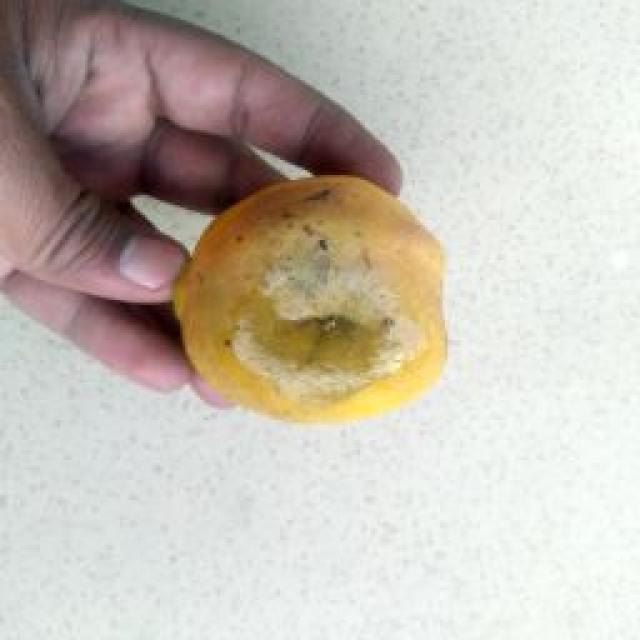Bad_Orange: (175, 179, 446, 420)
